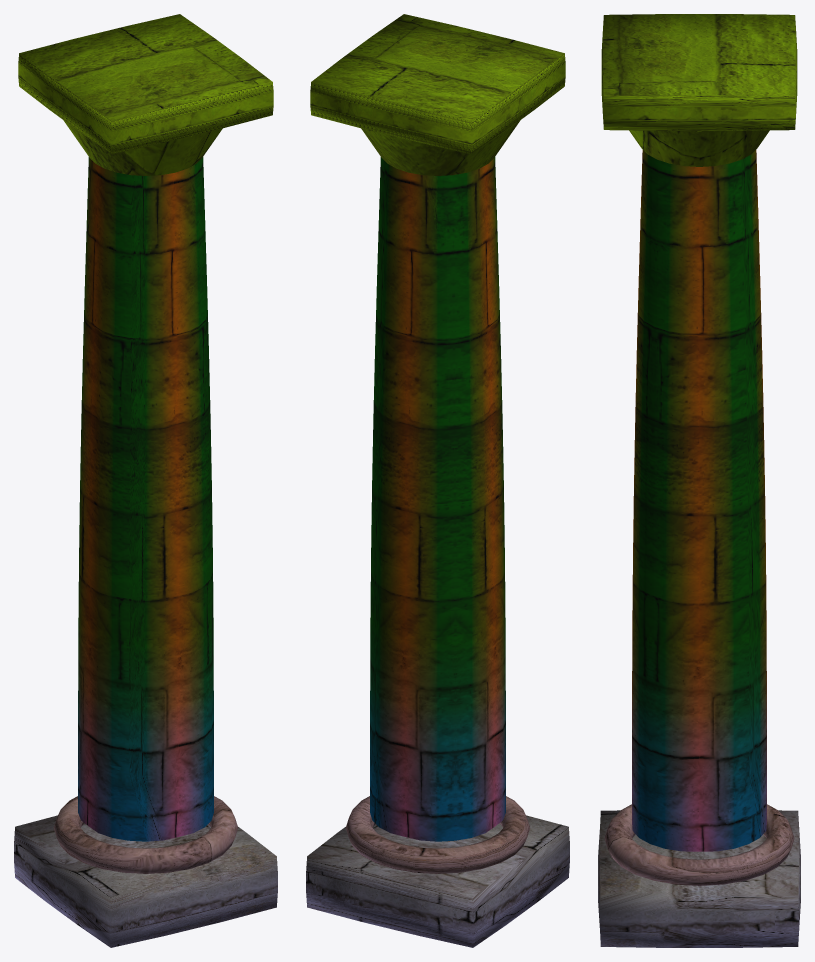
The model's file is env_arch_romancolumn_4m6_lod0-raw-154f504de282.glb.
3 views of the same model, side by side, from view 1: azimuth 30°, elevation 25°; view 2: azimuth 150°, elevation 25°; view 3: azimuth 270°, elevation 25° (orthographic). The views are drawn at different scales.
Visible parts, largest first — view 1: ENV_ARCH_RomanColumn_4m6_LOD0; view 2: ENV_ARCH_RomanColumn_4m6_LOD0; view 3: ENV_ARCH_RomanColumn_4m6_LOD0.
Part boxes in pixels (x1,y1,x2,y2): ENV_ARCH_RomanColumn_4m6_LOD0: (14, 14, 277, 947); ENV_ARCH_RomanColumn_4m6_LOD0: (306, 14, 569, 947); ENV_ARCH_RomanColumn_4m6_LOD0: (598, 14, 800, 947).
Size of the model in its own units: 0.957 by 4.45 by 0.957.
1 material, 1 textured.
